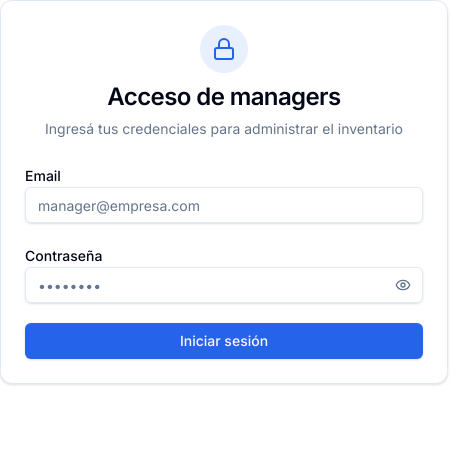
Test: LoginForm › shows required-field errors when submitting empty
The width and height of the screenshot is (465, 454).
Click the button "Iniciar sesión": (224, 341) [25,323,423,359]
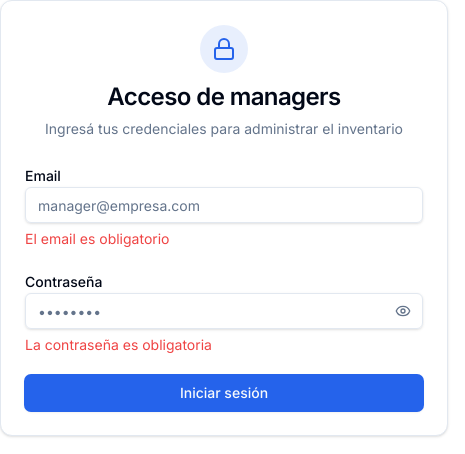
Check: the text with test id "email-error" reads "El email es obligatorio", box [25,230,170,247]
Check: the text with test id "password-error" reads "La contraseña es obligatoria", box [25,336,212,353]
